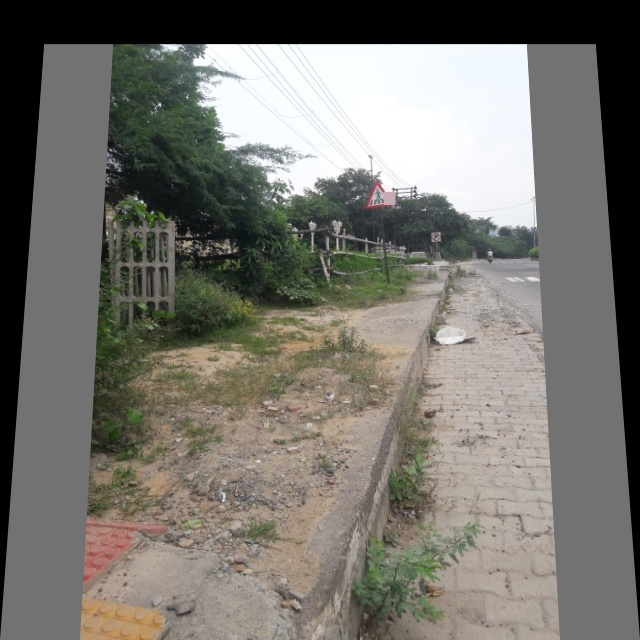Pedestrian_Crossing: (363, 173, 401, 211)
